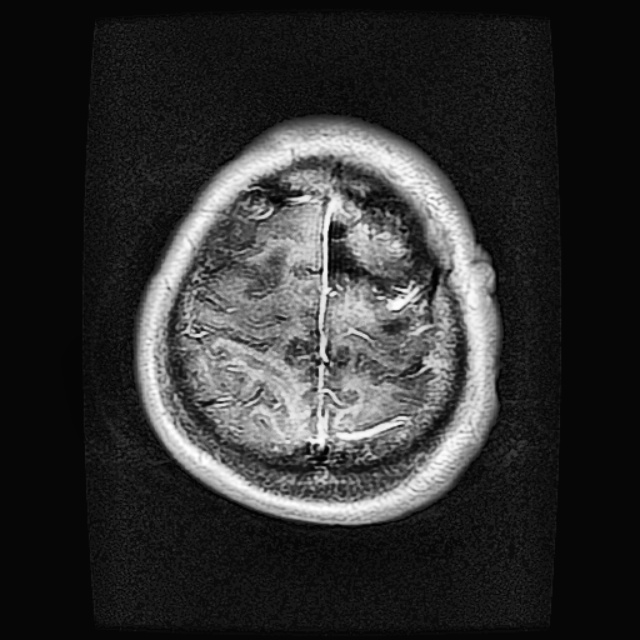Glioma: (327, 179, 434, 288)
